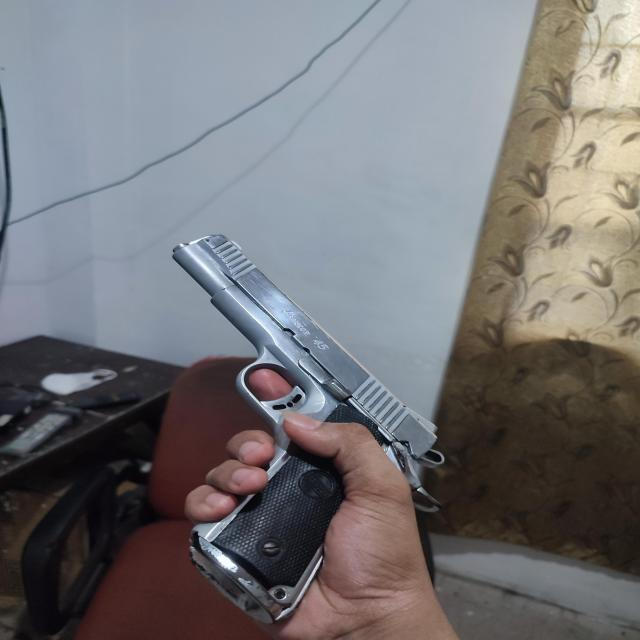pistol: (170, 233, 443, 624)
